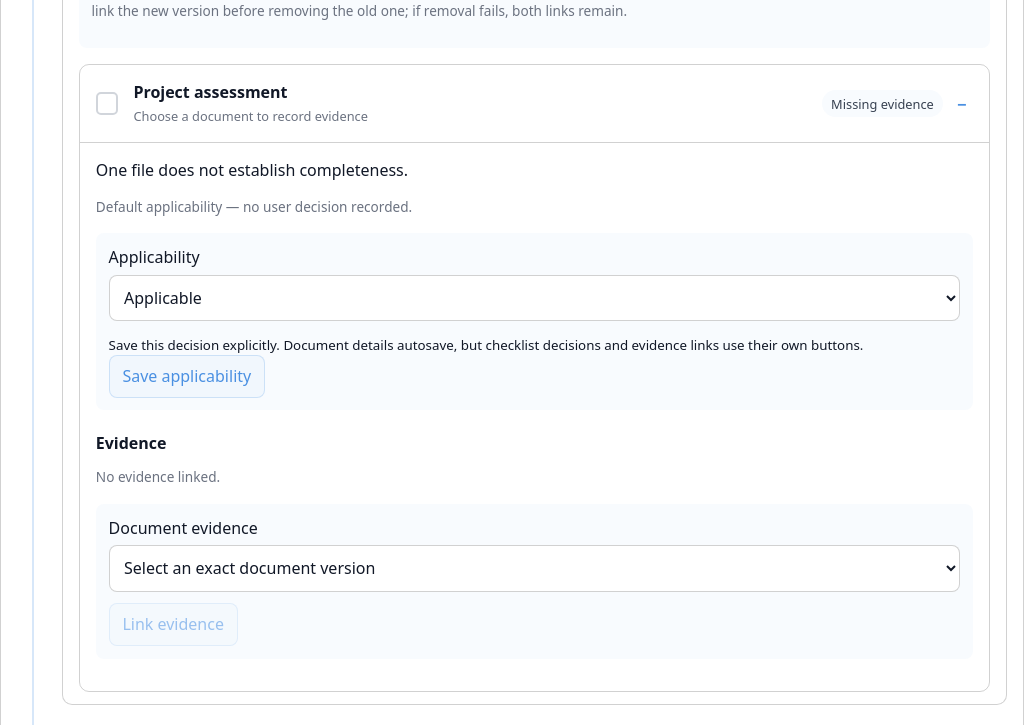
Test case: 409 refreshes current state without retrying a decision
(page scrolled)
Click the button "Save applicability": (187, 376) [109, 354, 265, 398]
(page scrolled)
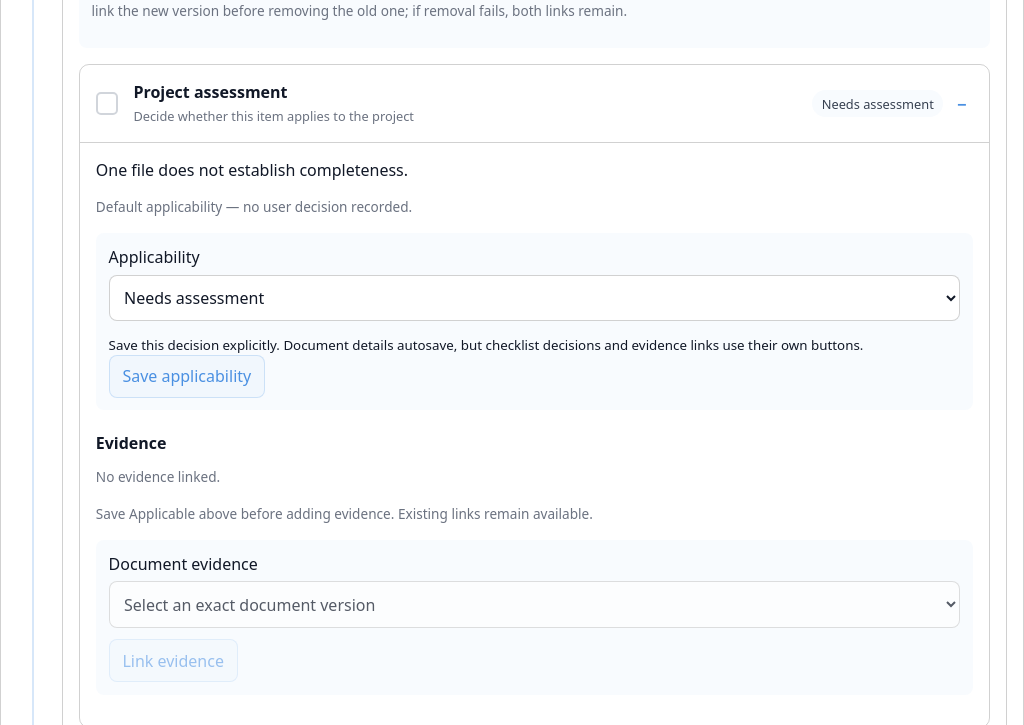
Check: the dropdown labelled "Applicability" shows "Needs assessment", box [109, 274, 960, 321]
